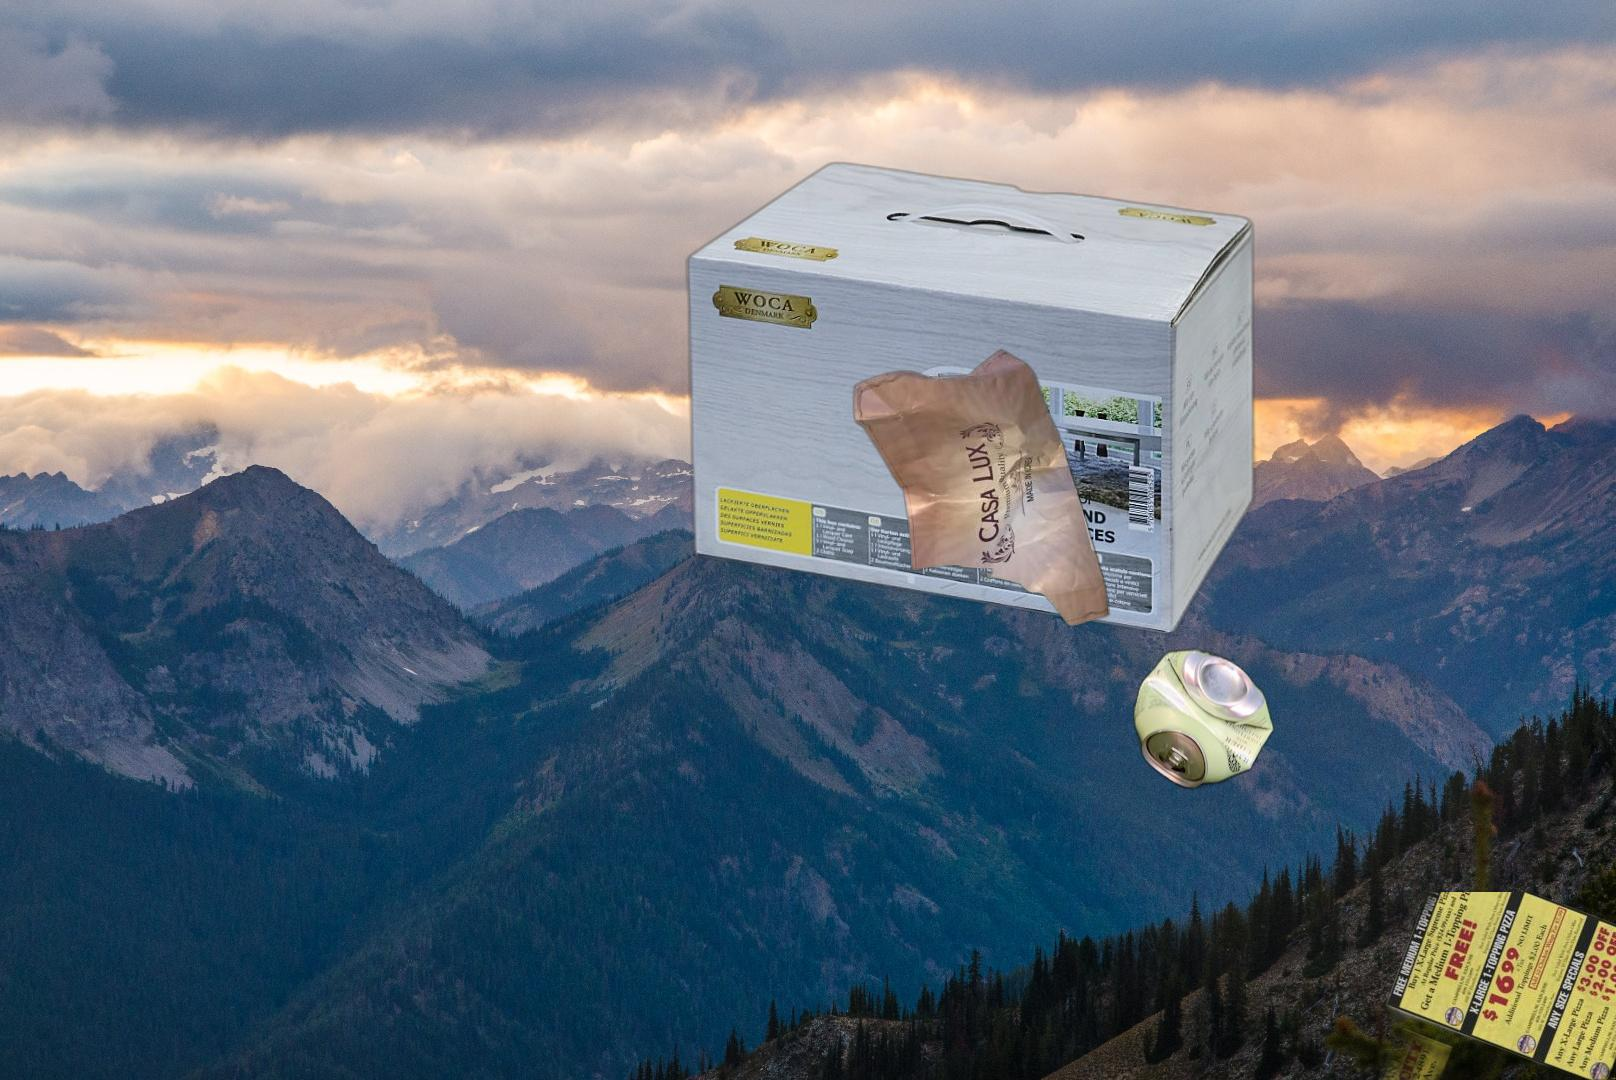metal-cans: (1526, 558, 1616, 900), (1130, 642, 1279, 796)
paper: (759, 346, 1113, 679), (1253, 892, 1616, 1080)
trashbox-cardboard: (678, 157, 1263, 639)
